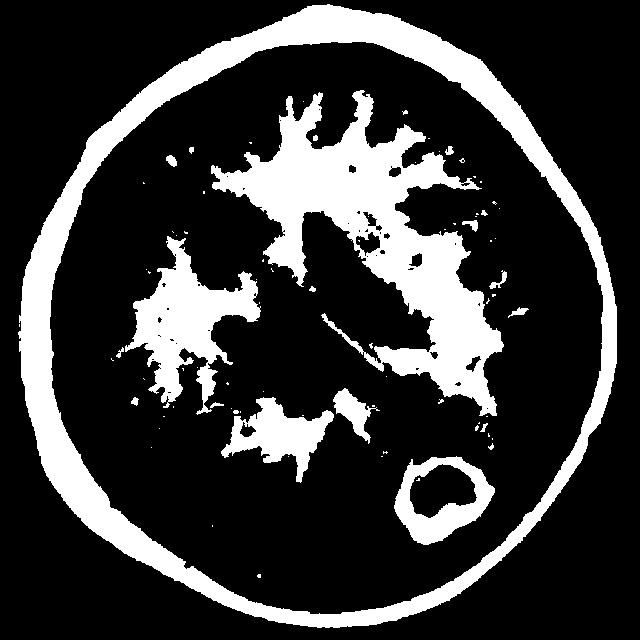Brain-Tumor: (380, 442, 507, 558)
